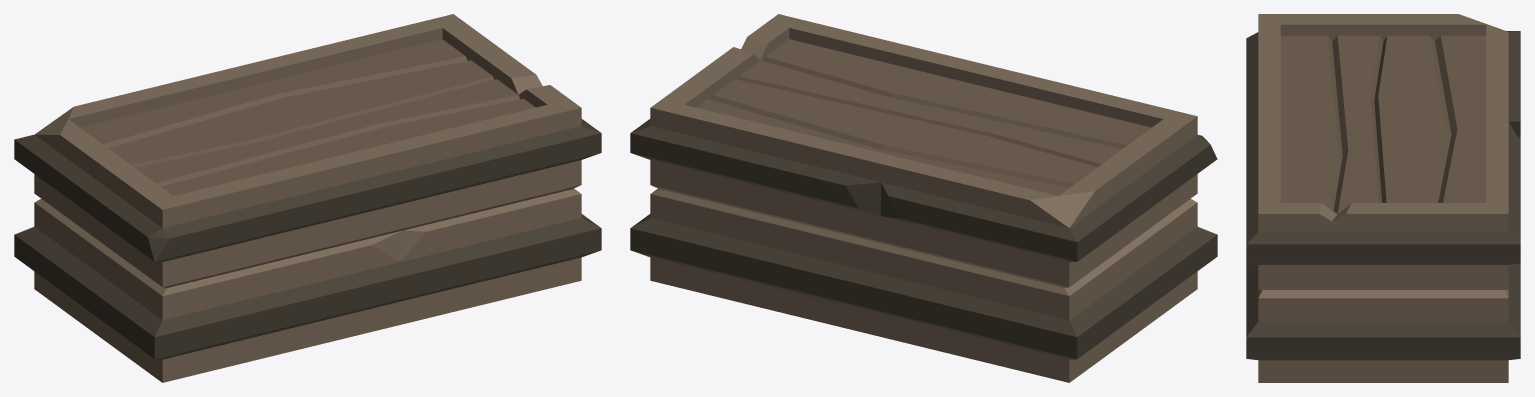
Rendered from SM_Prop_Crate_03.glb.
3 renders of one model, left to right at view 1: azimuth 30°, elevation 25°; view 2: azimuth 150°, elevation 25°; view 3: azimuth 270°, elevation 25°, orthographic. The views are drawn at different scales.
Parts seen in each view (by area): view 1: SM_Prop_Crate_03; view 2: SM_Prop_Crate_03; view 3: SM_Prop_Crate_03.
Boxes of the visible parts, box(x1,y1,x2,y2) form: SM_Prop_Crate_03: box(14, 14, 601, 382); SM_Prop_Crate_03: box(630, 14, 1217, 382); SM_Prop_Crate_03: box(1246, 14, 1520, 382).
Bounding box in the file's own units: 0.00954 × 0.00353 × 0.00519.
